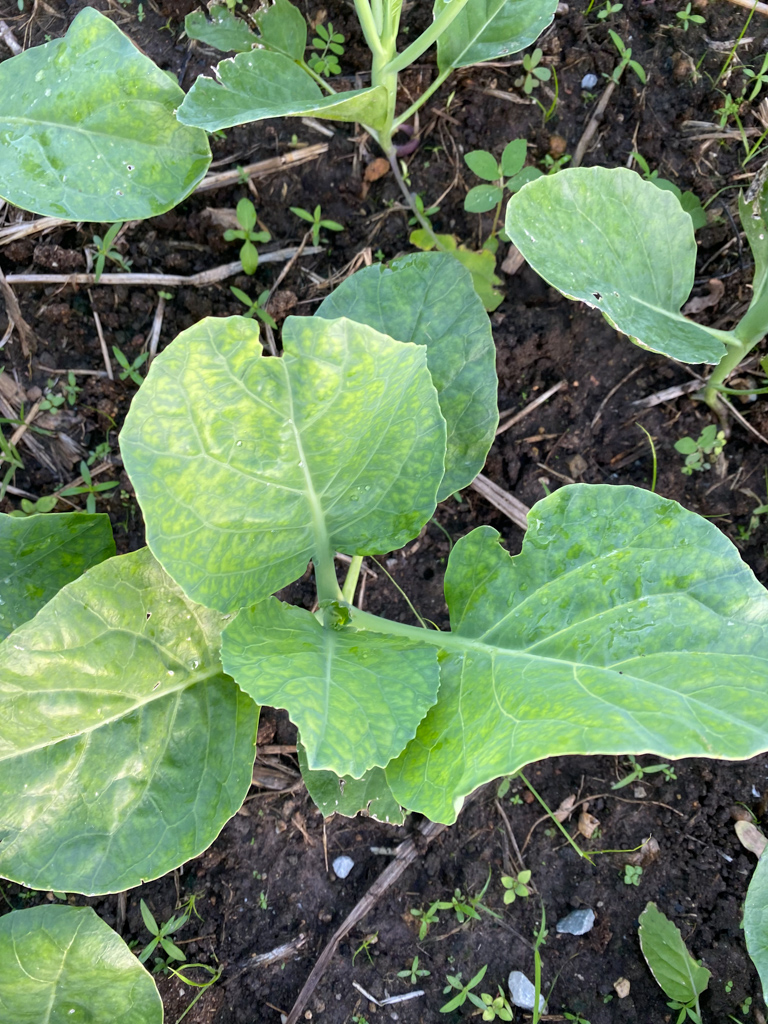Pepper yellow leaf: (134, 310, 403, 555)
